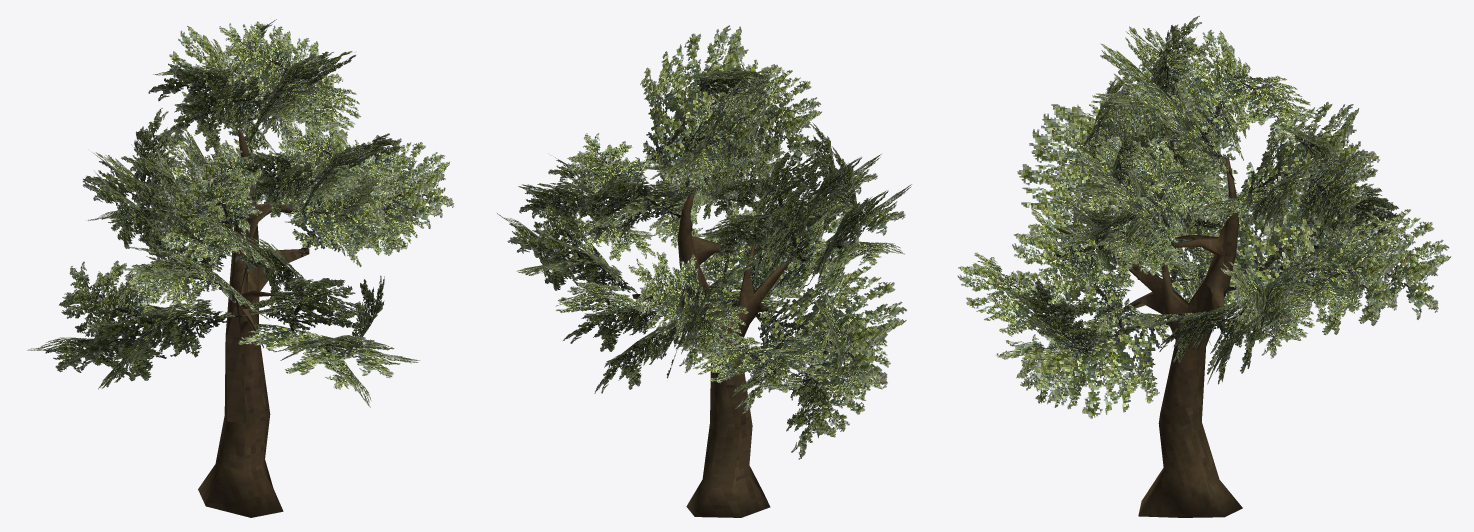
Rendered from a38_tree_leaf.glb.
3 views of the same model, side by side, from view 1: azimuth 30°, elevation 25°; view 2: azimuth 150°, elevation 25°; view 3: azimuth 270°, elevation 25° (orthographic). The views are drawn at different scales.
Parts seen in each view (by area): view 1: body; view 2: body; view 3: body.
Part boxes in pixels (left/top/right/bottom): body: left=27, top=19, right=454, bottom=517; body: left=497, top=25, right=911, bottom=517; body: left=957, top=15, right=1451, bottom=517.
Size of the model in its own units: 0.9701 by 1.05 by 1.
1 material, 1 textured.
